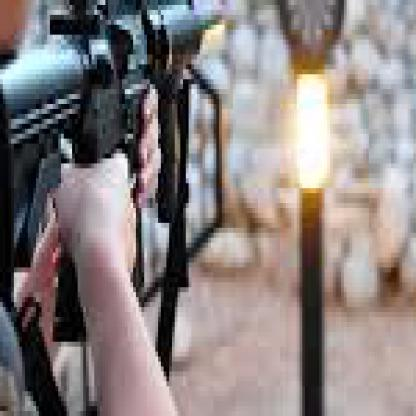gun: (388, 0, 413, 144)
